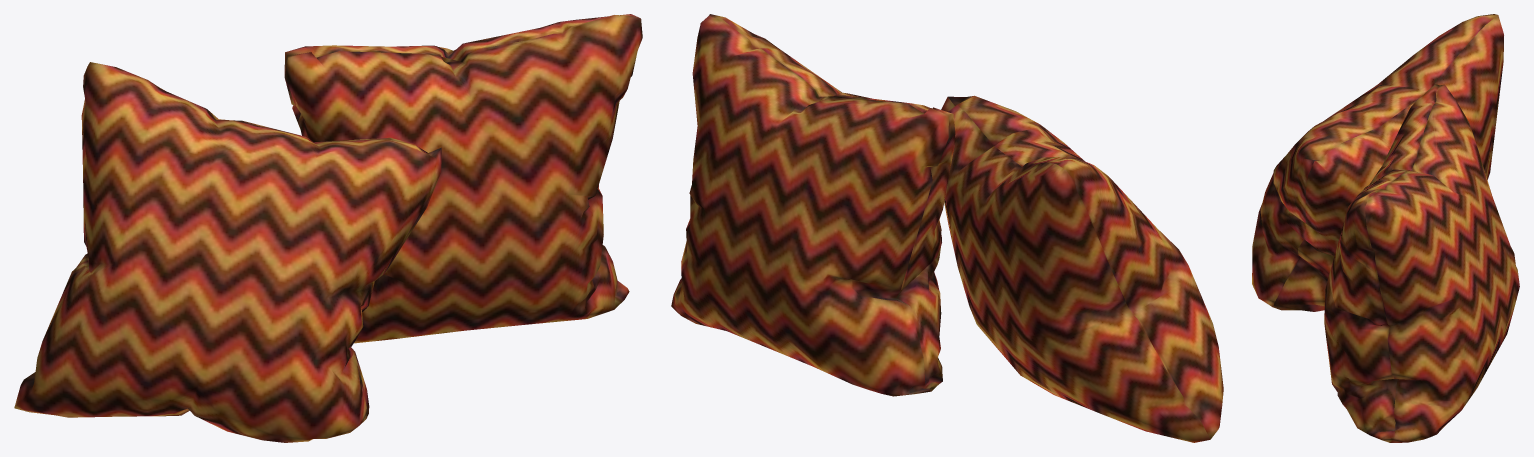
The model's file is throw_pillows_01.glb.
The picture shows the model from 3 angles, left to right: view 1: azimuth 30°, elevation 25°; view 2: azimuth 150°, elevation 25°; view 3: azimuth 270°, elevation 25°; orthographic projection. The views are drawn at different scales.
Parts seen in each view (by area): view 1: throw_pillows_01_pillow02; view 2: throw_pillows_01_pillow02; view 3: throw_pillows_01_pillow02.
Part boxes in pixels (box(x1,y1,x2,y2)): throw_pillows_01_pillow02: box(14, 14, 642, 442); throw_pillows_01_pillow02: box(671, 14, 1223, 442); throw_pillows_01_pillow02: box(1252, 14, 1519, 442).
Size of the model in its own units: 0.9351 by 0.4499 by 0.4502.
1 material, 1 textured.
